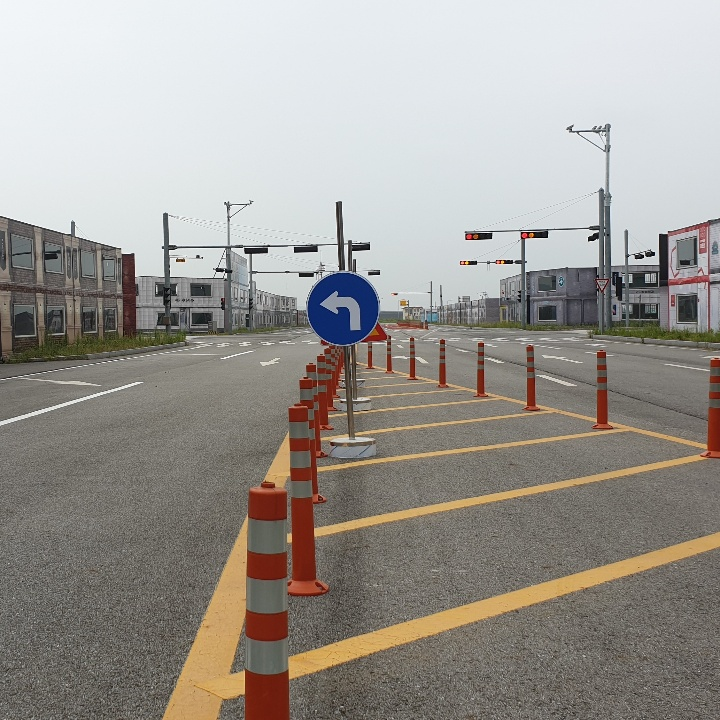left: (312, 283, 369, 337)
